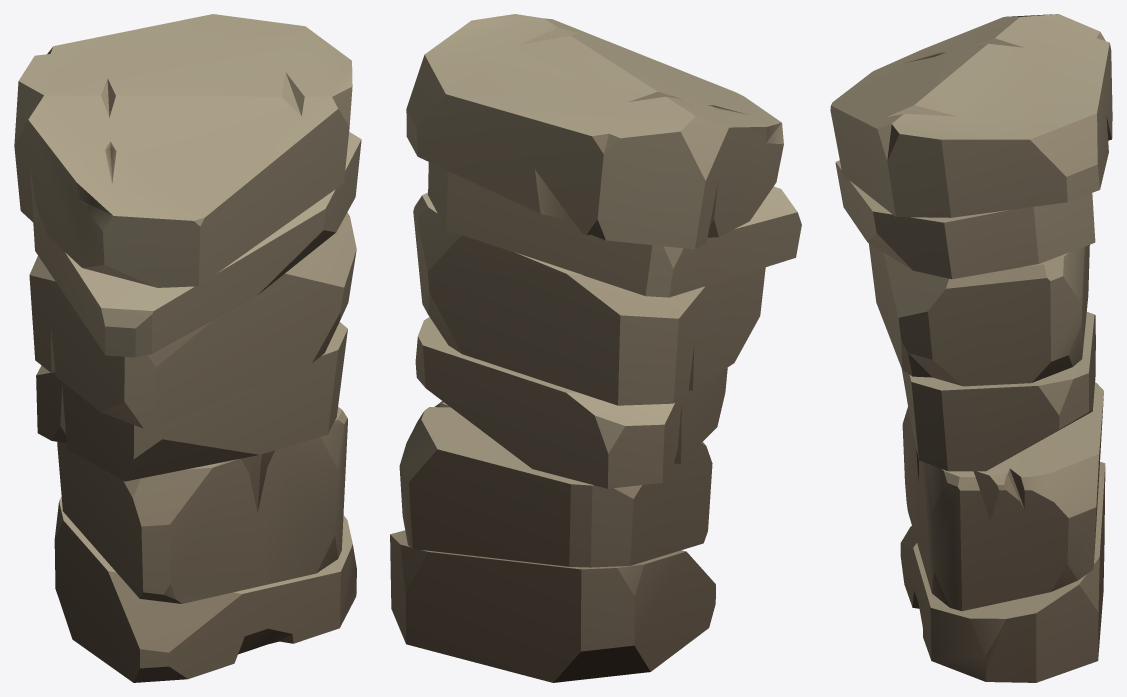
The model's file is Cliff_Vertical_4B.fbx.
3 renders of one model, left to right at view 1: azimuth 30°, elevation 25°; view 2: azimuth 150°, elevation 25°; view 3: azimuth 270°, elevation 25°, orthographic. The views are drawn at different scales.
Visible parts, largest first — view 1: Cliff_Vertical_4B; view 2: Cliff_Vertical_4B; view 3: Cliff_Vertical_4B.
Boxes of the visible parts, x1=… form: Cliff_Vertical_4B: x1=14, y1=14, x2=361, y2=682; Cliff_Vertical_4B: x1=390, y1=14, x2=801, y2=682; Cliff_Vertical_4B: x1=830, y1=14, x2=1112, y2=682.
Bounding box in the file's own units: 1199 × 1992 × 962.
